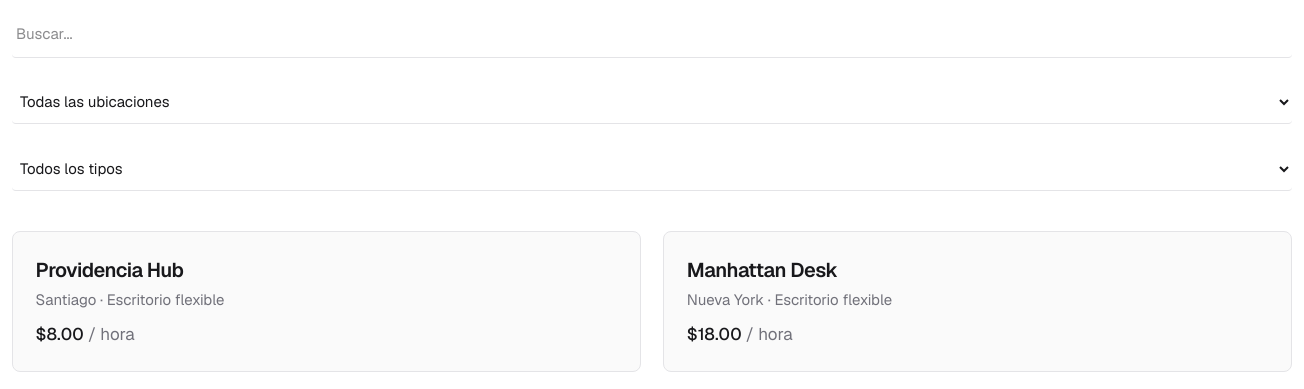
Test: CatalogoEspacios › ofrece limpiar filtros cuando no hay resultados, y restaura el catálogo al hacer clic
Type "no-existe" into the field with placeholder "Buscar..." at (652, 35), box [12,12,1292,58]
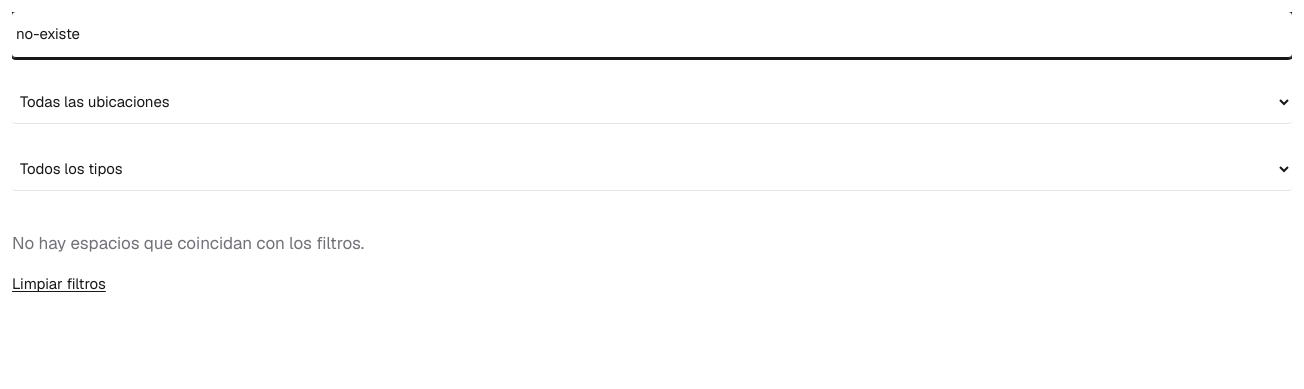
Check: the button "Limpiar filtros" is shown
Click the button "Limpiar filtros" at (59, 284), box [12,273,106,295]
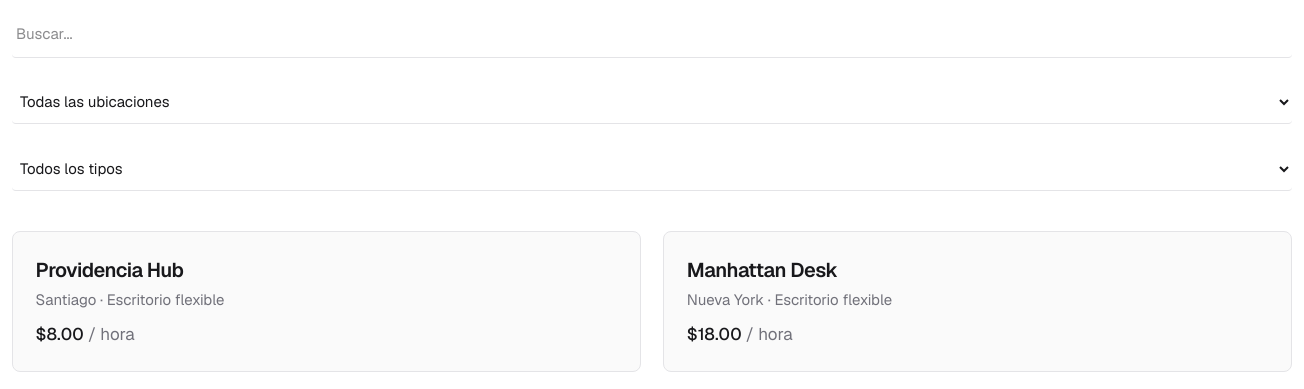
Check: the heading "Providencia Hub" is shown, box [36,257,183,283]
Check: the heading "Manhattan Desk" is shown, box [687,257,838,283]
Check: the button "Limpiar filtros" is gone
